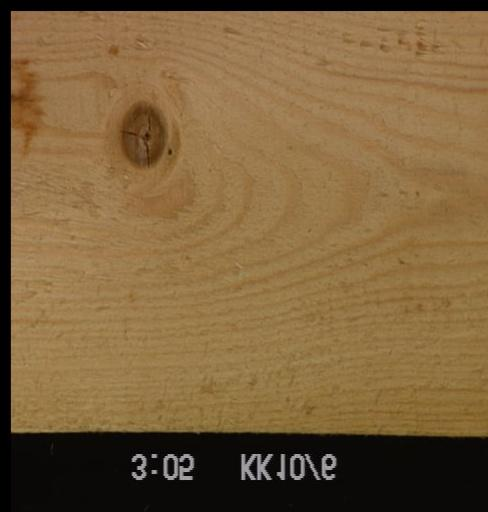sound_knot: (117, 99, 167, 169)
